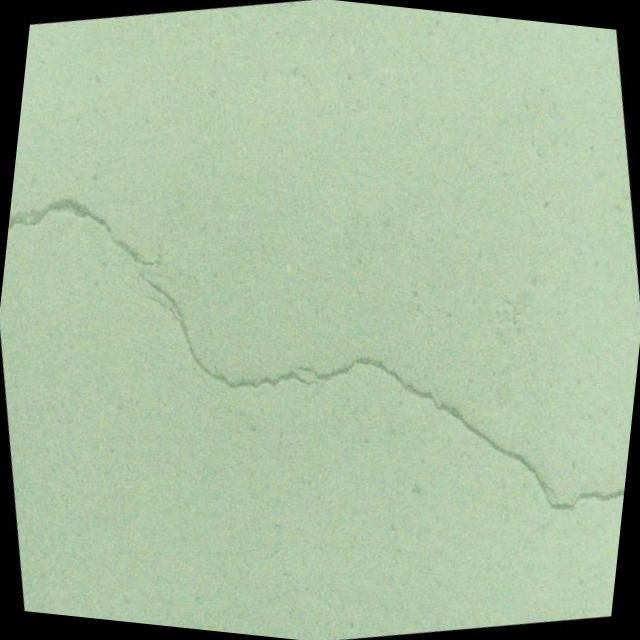crack: (97, 172, 640, 597), (2, 174, 175, 300)
